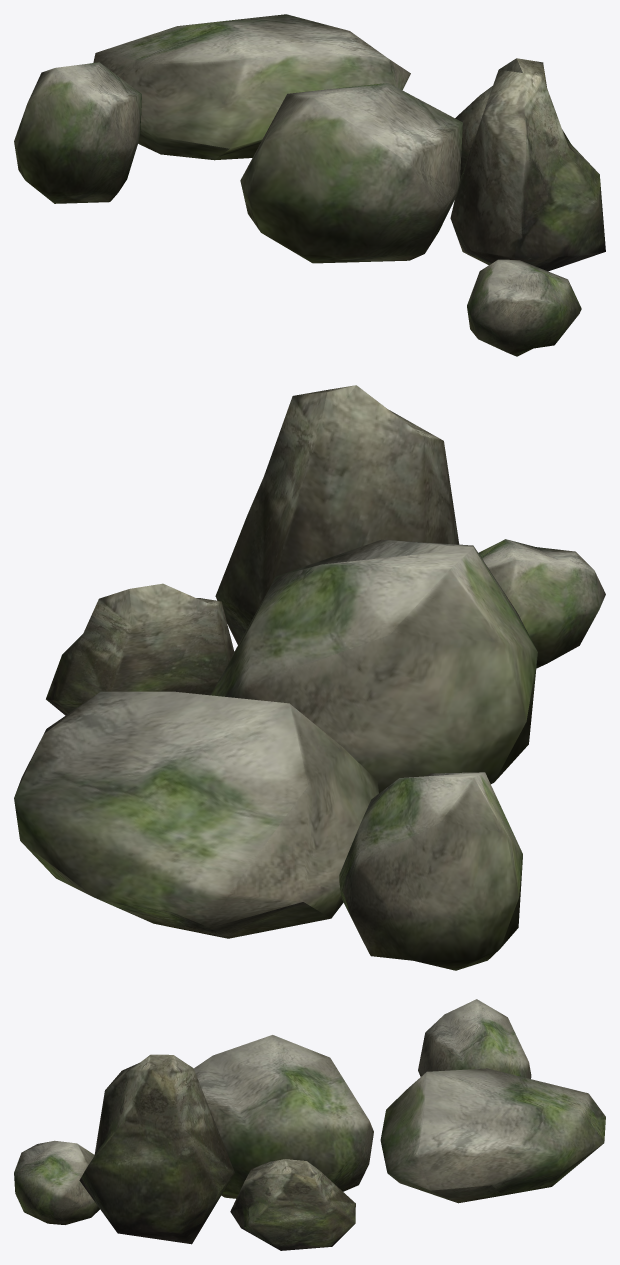
File: zz_dont_use_rocks_Dk_group_3F.fbx
The picture shows the model from 3 angles, top to bottom: view 1: azimuth 30°, elevation 25°; view 2: azimuth 150°, elevation 25°; view 3: azimuth 270°, elevation 25°; orthographic projection. The views are drawn at different scales.
Parts seen in each view (by area): view 1: rock_5, rock_3, rock_1, rock_6, rock_2, rock_4; view 2: rock_3, rock_5, rock_1, rock_6, rock_4, rock_2; view 3: rock_3, rock_1, rock_5, rock_4, rock_6, rock_2.
Boxes of the visible parts, x1,y1,x2,y2 form: rock_5: (240, 83, 462, 263); rock_3: (93, 14, 410, 160); rock_1: (450, 58, 605, 271); rock_6: (14, 62, 141, 203); rock_2: (467, 259, 581, 356); rock_4: (455, 86, 492, 179); rock_3: (14, 691, 378, 938); rock_5: (211, 539, 537, 793); rock_1: (215, 385, 459, 644); rock_6: (339, 772, 522, 970); rock_4: (46, 583, 234, 715); rock_2: (478, 539, 605, 668); rock_3: (380, 1068, 605, 1203); rock_1: (79, 1054, 234, 1244); rock_5: (193, 1035, 373, 1198); rock_4: (230, 1159, 355, 1250); rock_6: (418, 999, 531, 1078); rock_2: (14, 1140, 99, 1224).
Bounding box in the file's own units: 973 × 485 × 1381.
1 material, 1 textured.
